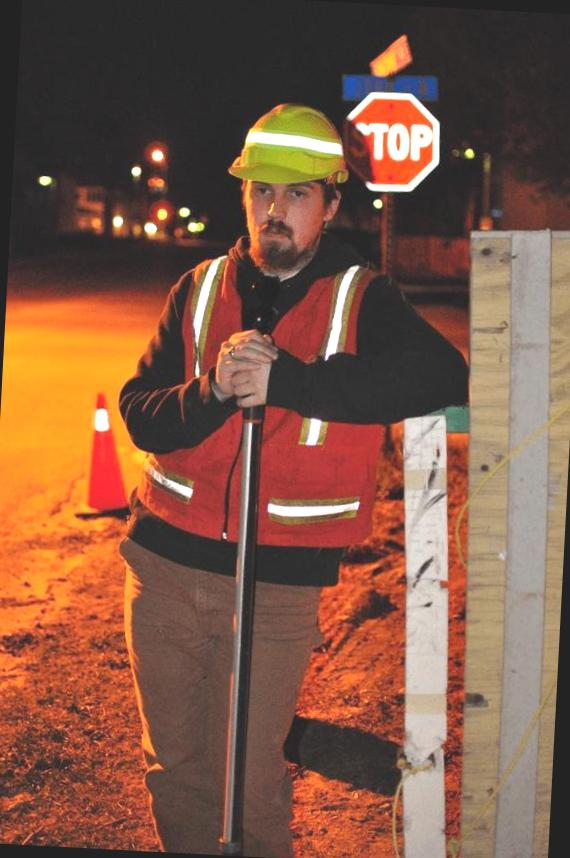helmet: (226, 97, 352, 204)
person: (83, 91, 489, 858)
